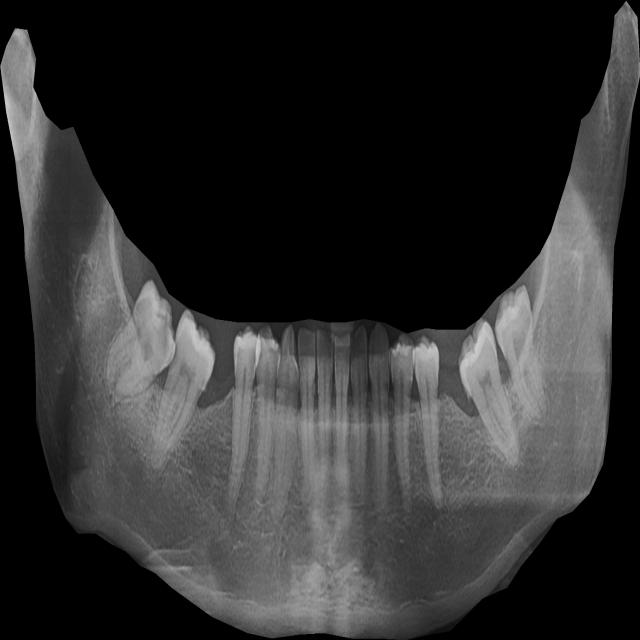mandibula: (0, 1, 640, 640)
